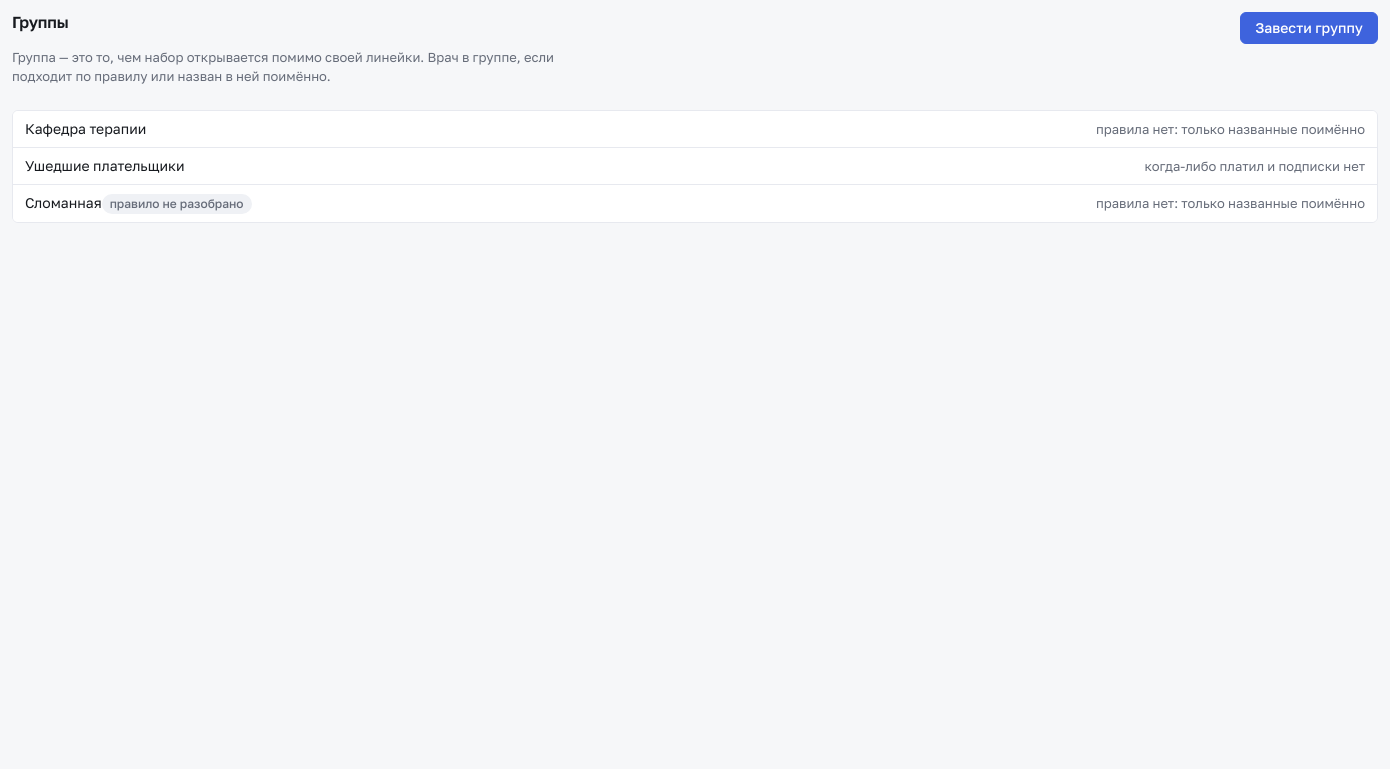
it: группы врачей › размер считается по нажатию, а не при открытии карточки
This screenshot has width=1390, height=769.
Step 1. Click the text "Кафедра терапии" → click(86, 129), box [25,119,146,139]
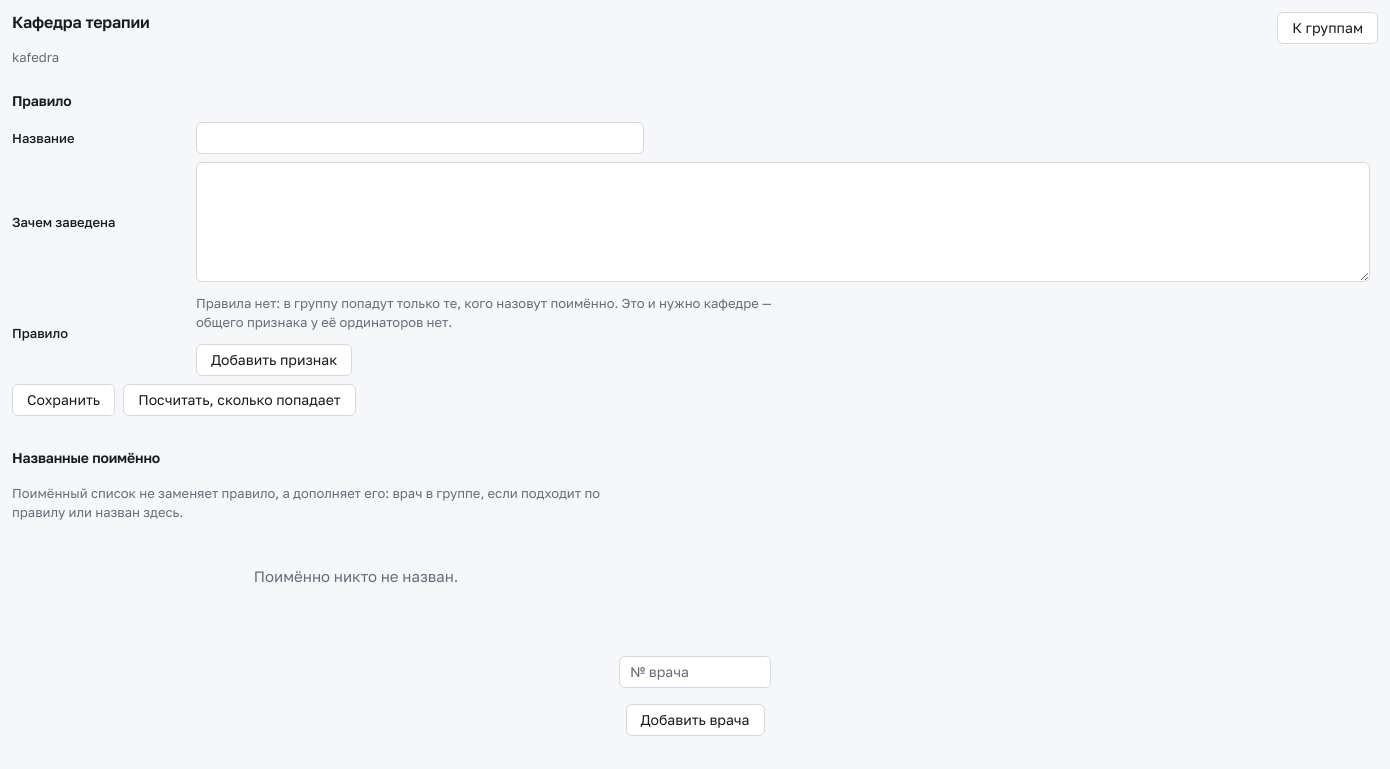
Expected: the heading "Названные поимённо" is shown, [12,449,160,466]
Expected: the text "Сейчас попадает" is not shown
Step 2. Click the button "Посчитать, сколько попадает" → click(239, 400), box [123,384,356,416]
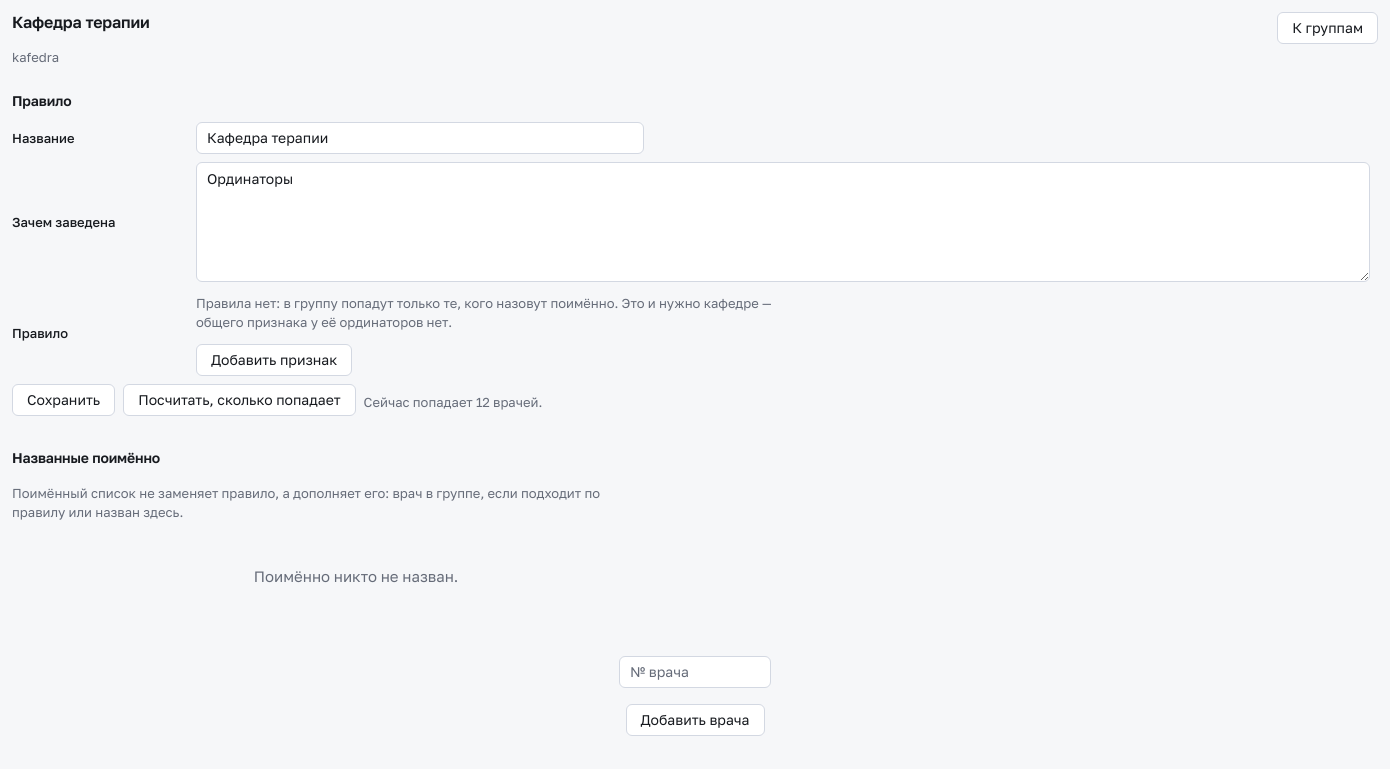
Now the text "Сейчас попадает 12 врачей." is shown, box [364,393,542,412]
